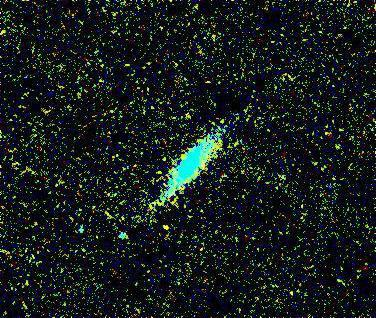star: (152, 209, 182, 239)
